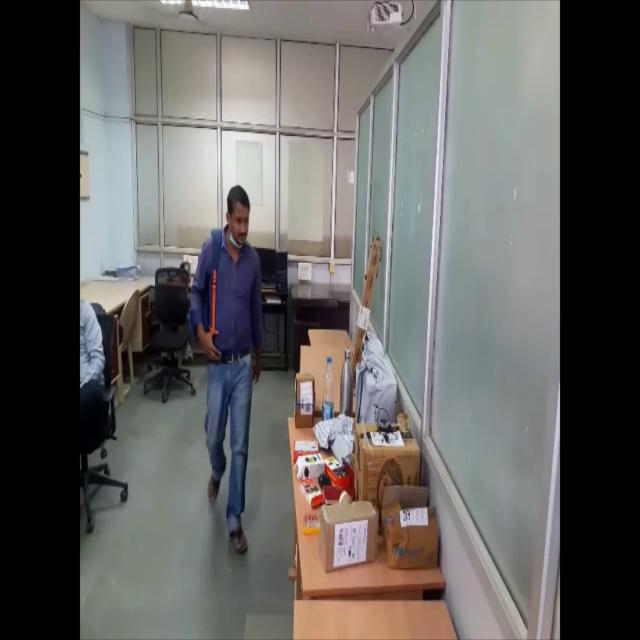normal: (184, 180, 270, 575)
